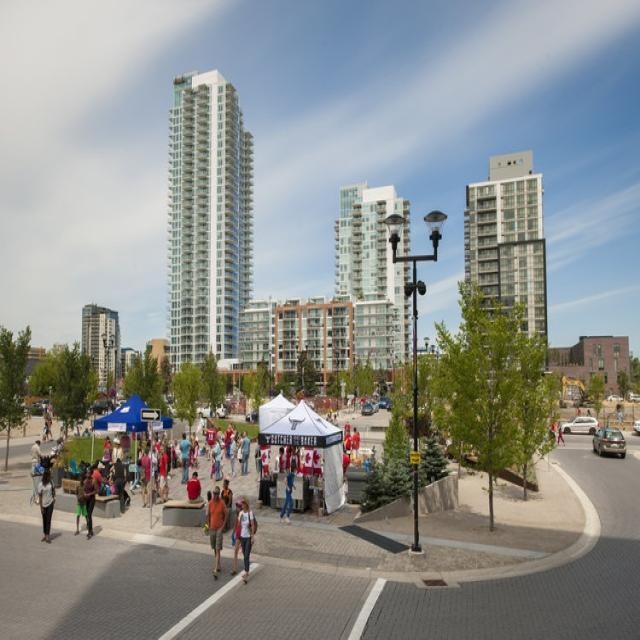body: (42, 402, 241, 546), (270, 378, 386, 484), (201, 485, 229, 578), (237, 496, 260, 585), (576, 402, 626, 433), (38, 468, 56, 545), (278, 464, 298, 525), (72, 472, 90, 537), (109, 456, 128, 517), (83, 468, 97, 541), (230, 499, 243, 576), (129, 439, 145, 495), (219, 477, 234, 531), (139, 446, 151, 509), (178, 431, 192, 483), (92, 461, 113, 495), (158, 444, 169, 505), (185, 469, 203, 502), (240, 428, 251, 474), (212, 435, 222, 482), (110, 436, 126, 464), (228, 431, 238, 474), (29, 437, 44, 463), (206, 423, 216, 462), (148, 445, 158, 481), (236, 430, 245, 470), (218, 441, 227, 481), (351, 426, 361, 459), (616, 406, 626, 434), (102, 435, 112, 463), (224, 424, 234, 452), (192, 440, 201, 469), (556, 421, 565, 445), (550, 419, 558, 435)
